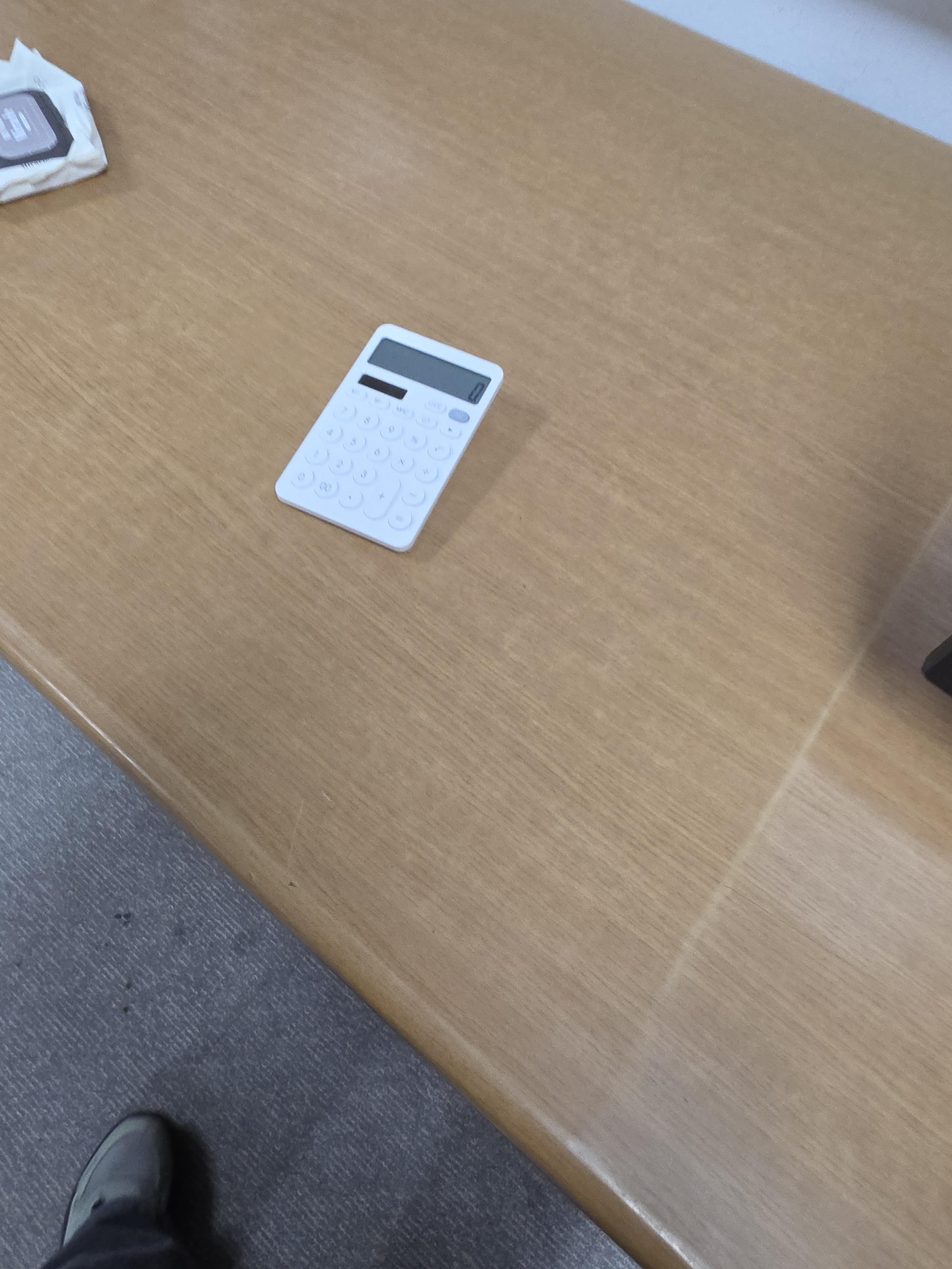calculator: (274, 324, 505, 553)
tissue: (0, 37, 108, 203)
